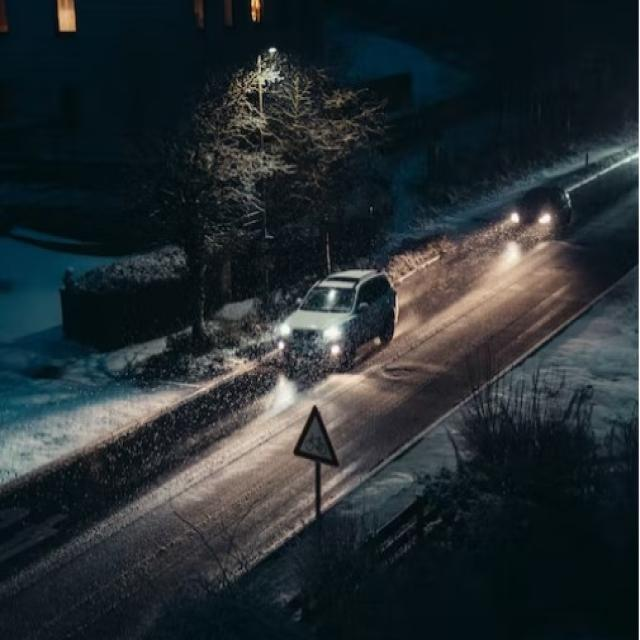car: (276, 267, 400, 368), (506, 182, 573, 238)
